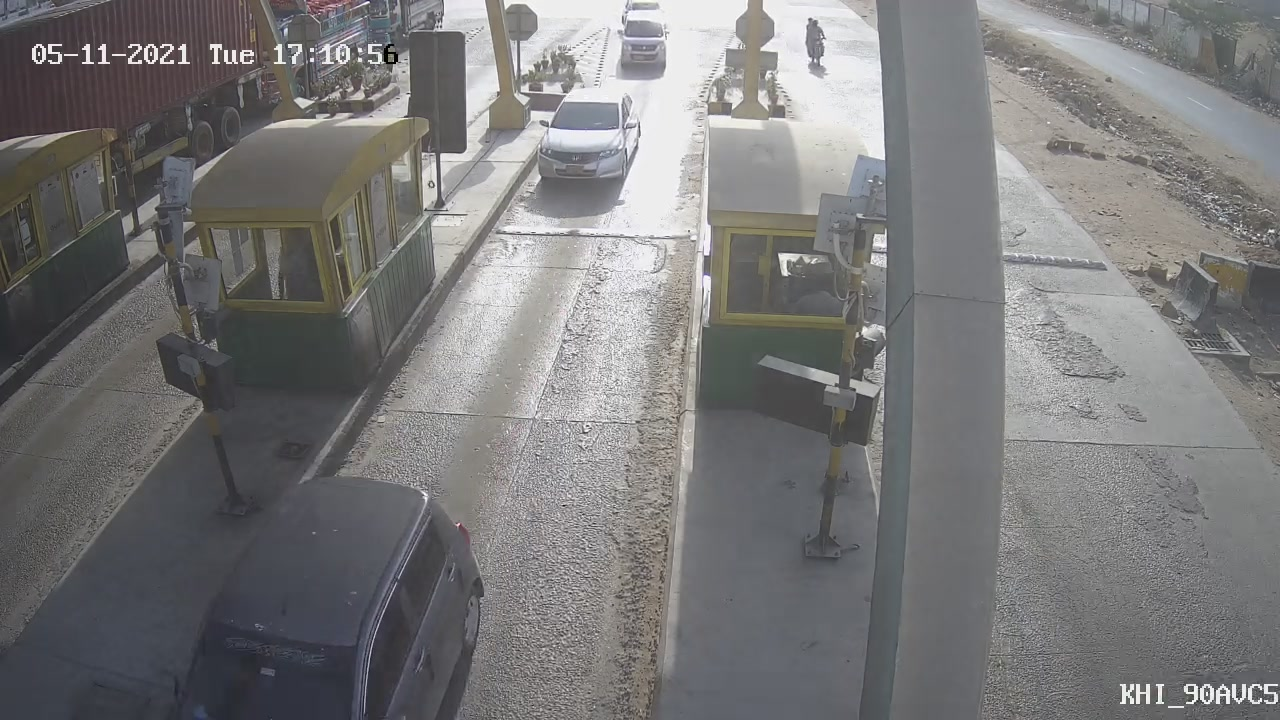F1: (517, 74, 656, 199)
